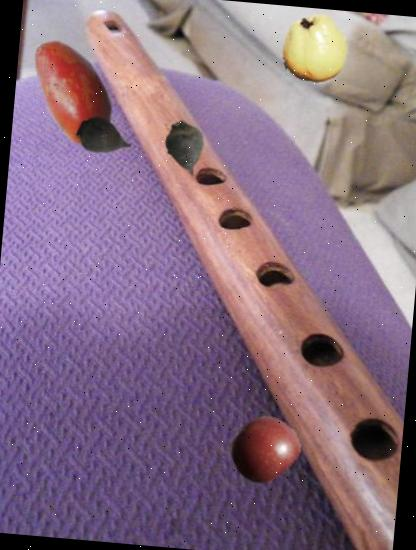Apple: (227, 412, 303, 488)
Beetroot: (151, 112, 223, 184), (73, 107, 137, 171)
Potato: (10, 29, 134, 153)
Quince: (276, 13, 351, 88)
